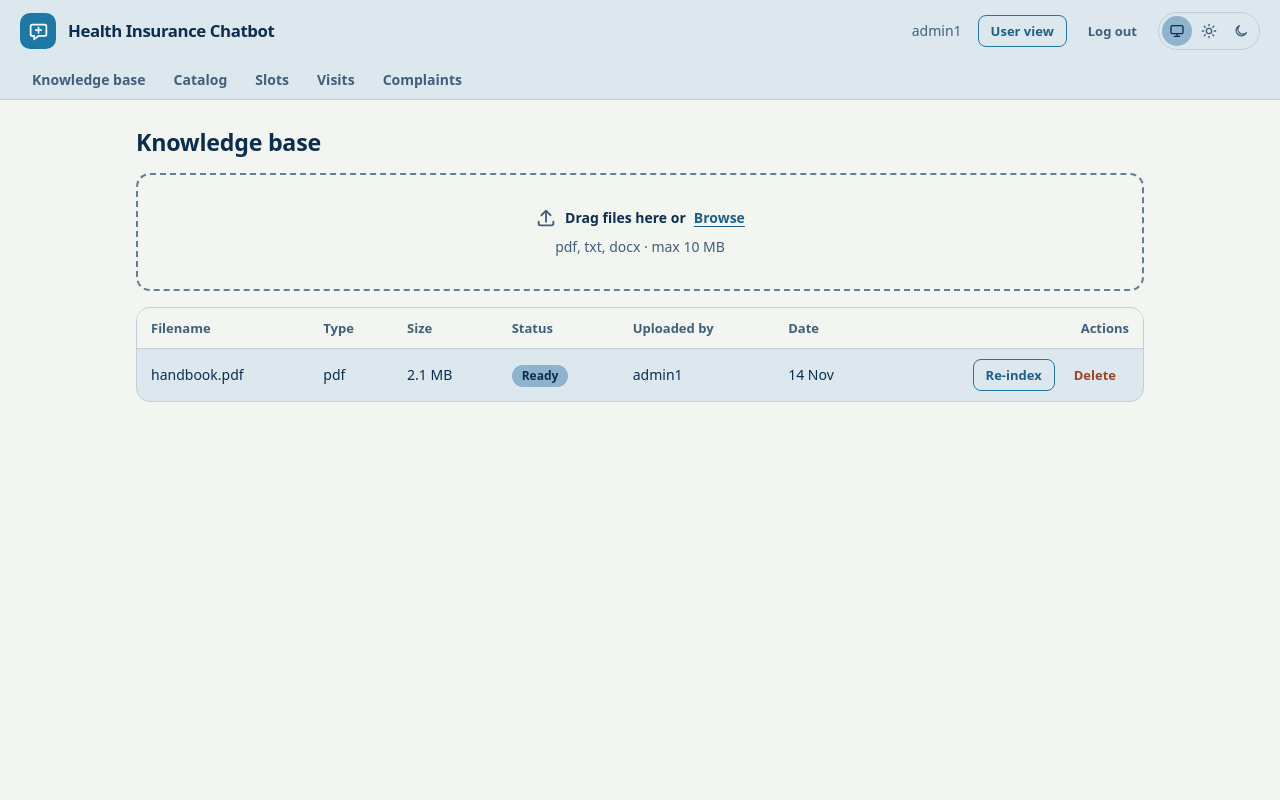
AdminKbPage › G9: a failed delete shows why and keeps the row
The image size is (1280, 800).
Click the button with test id "kb-delete".
click(1095, 375)  # box [1061, 359, 1129, 391]
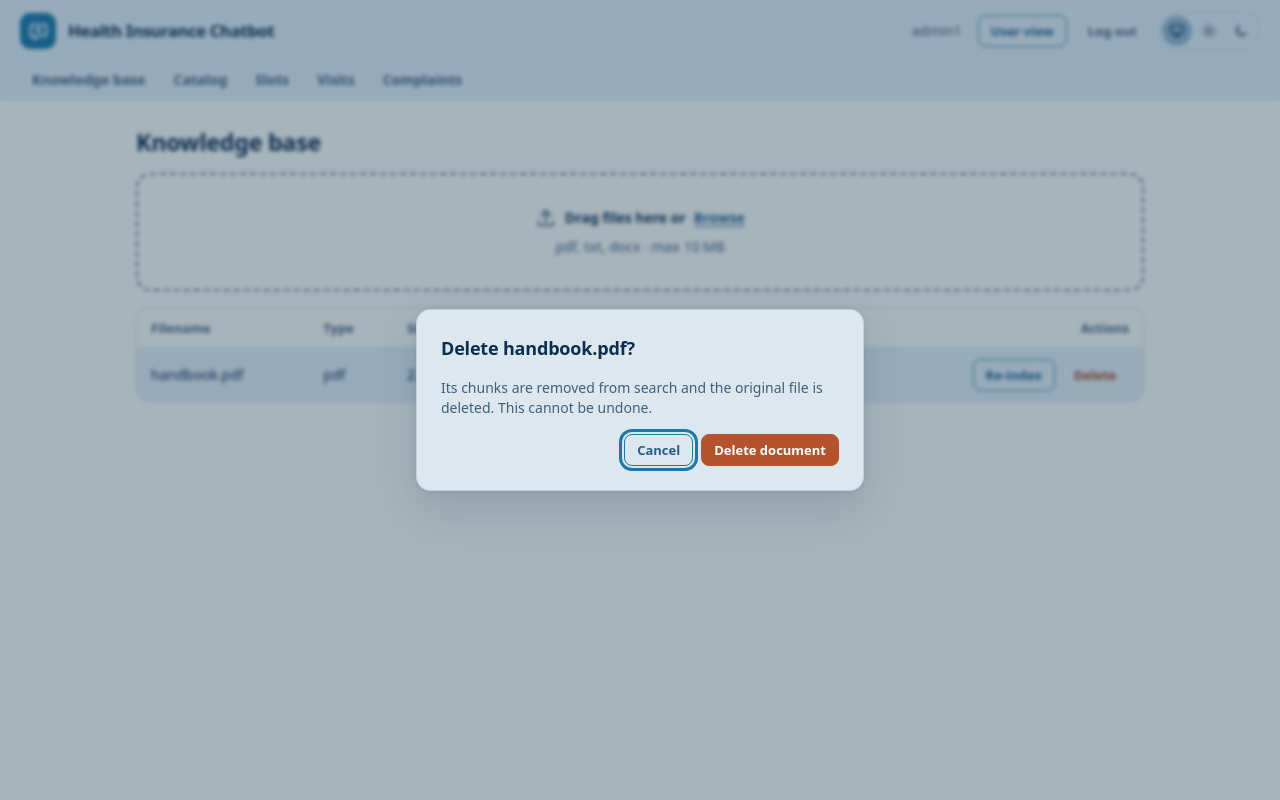
Click the button with test id "confirm-yes".
click(770, 450)  # box [701, 434, 839, 466]
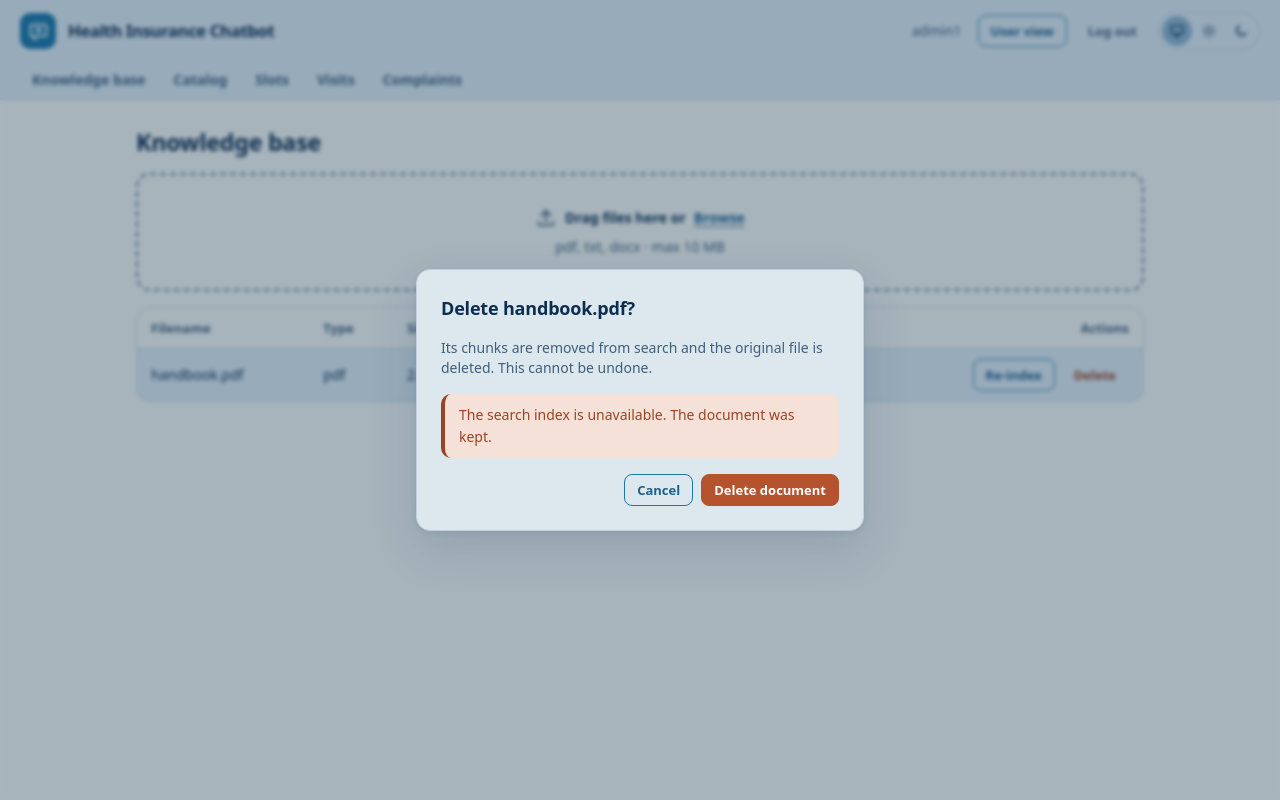
Expected: the number of rows with test id "kb-row" is 1, [137, 349, 1143, 401]
Now the dialog is shown, box [416, 269, 864, 531]
Now the message with test id "confirm-error" reads "The search index is unavailable. The document was kept.", box [459, 405, 794, 446]
